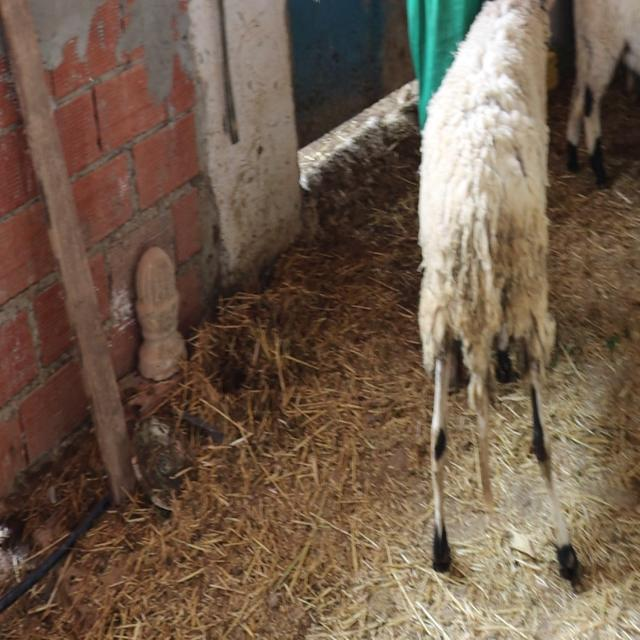Score_2: (418, 0, 580, 581)
